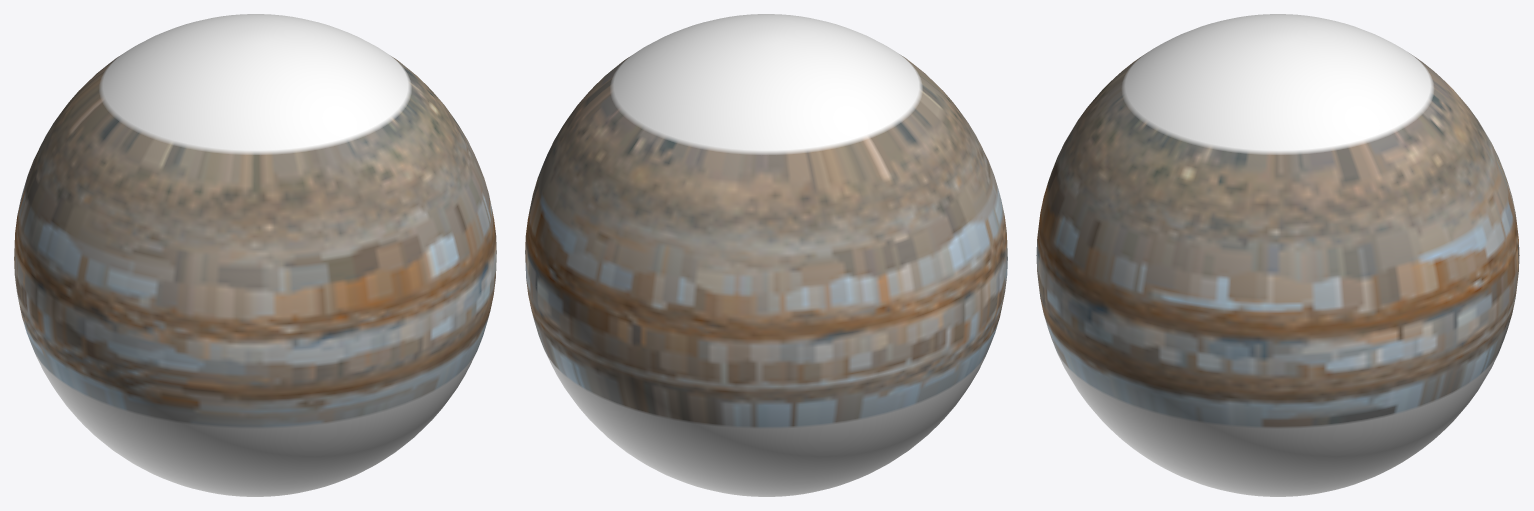
File: Jupter.glb
The picture shows the model from 3 angles, left to right: view 1: azimuth 30°, elevation 25°; view 2: azimuth 150°, elevation 25°; view 3: azimuth 270°, elevation 25°; orthographic projection.
Parts seen in each view (by area): view 1: Jupiter_Clouds_02.001; view 2: Jupiter_Clouds_02.001; view 3: Jupiter_Clouds_02.001.
Part boxes in pixels (x1,y1,x2,y2): Jupiter_Clouds_02.001: (14, 14, 496, 496); Jupiter_Clouds_02.001: (525, 14, 1007, 496); Jupiter_Clouds_02.001: (1036, 14, 1519, 496).
Bounding box in the file's own units: 2 × 2 × 2.
Materials: 2 (2 with a texture image).
